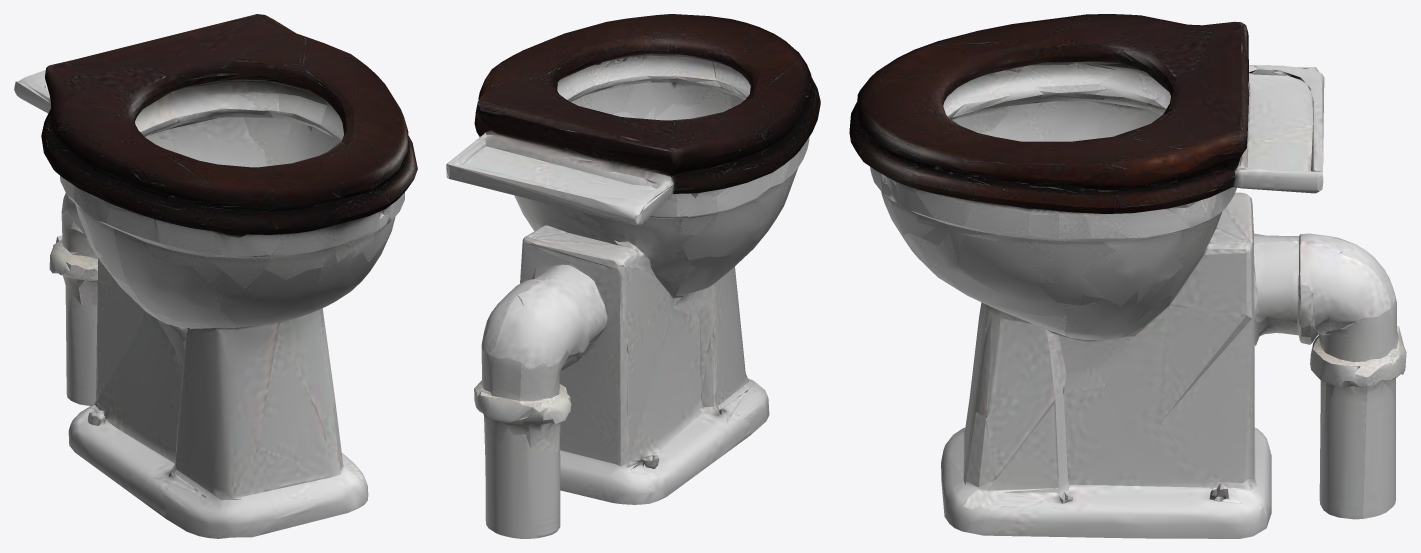
Rendered from toilet.glb.
The picture shows the model from 3 angles, left to right: view 1: azimuth 30°, elevation 25°; view 2: azimuth 150°, elevation 25°; view 3: azimuth 270°, elevation 25°; orthographic projection. The views are drawn at different scales.
Visible parts, largest first — view 1: output_unwrapped; view 2: output_unwrapped; view 3: output_unwrapped.
Boxes of the visible parts, x1,y1,x2,y2 form: output_unwrapped: (14, 14, 417, 538); output_unwrapped: (446, 14, 820, 538); output_unwrapped: (849, 14, 1406, 538).
Bounding box in the file's own units: 1.39 × 1.66 × 2.
1 material, 1 textured.
